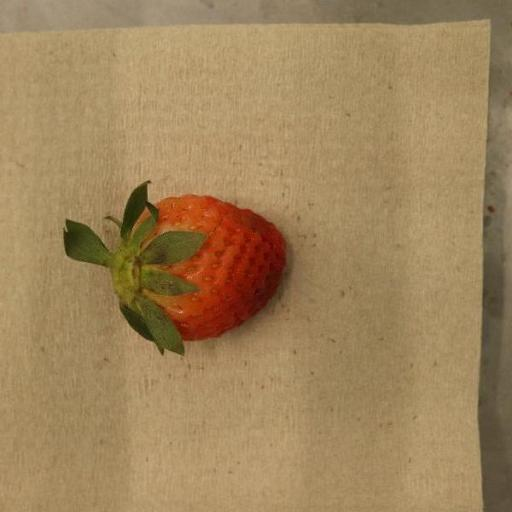Strawberry: (63, 181, 287, 356)
